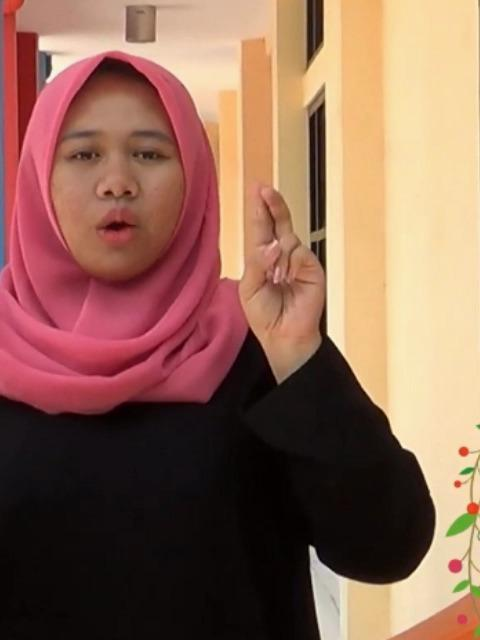U: (228, 176, 326, 348)
